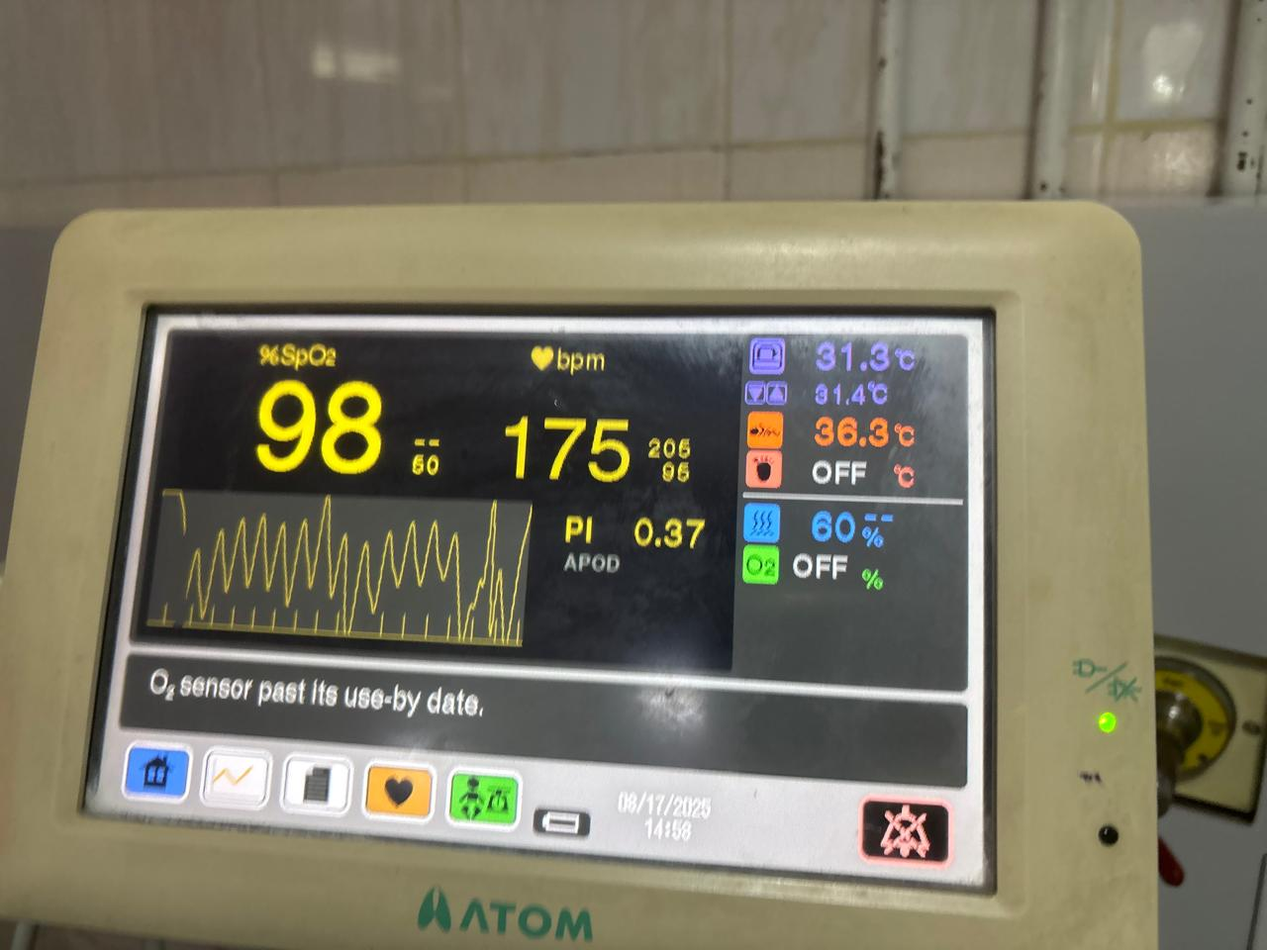air_temp_value: (807, 329, 899, 388)
heart_rate_value: (481, 402, 644, 493)
humidity_value: (796, 502, 860, 551)
skin_temp_value: (802, 406, 892, 454)
spo2_value: (235, 366, 390, 484)
